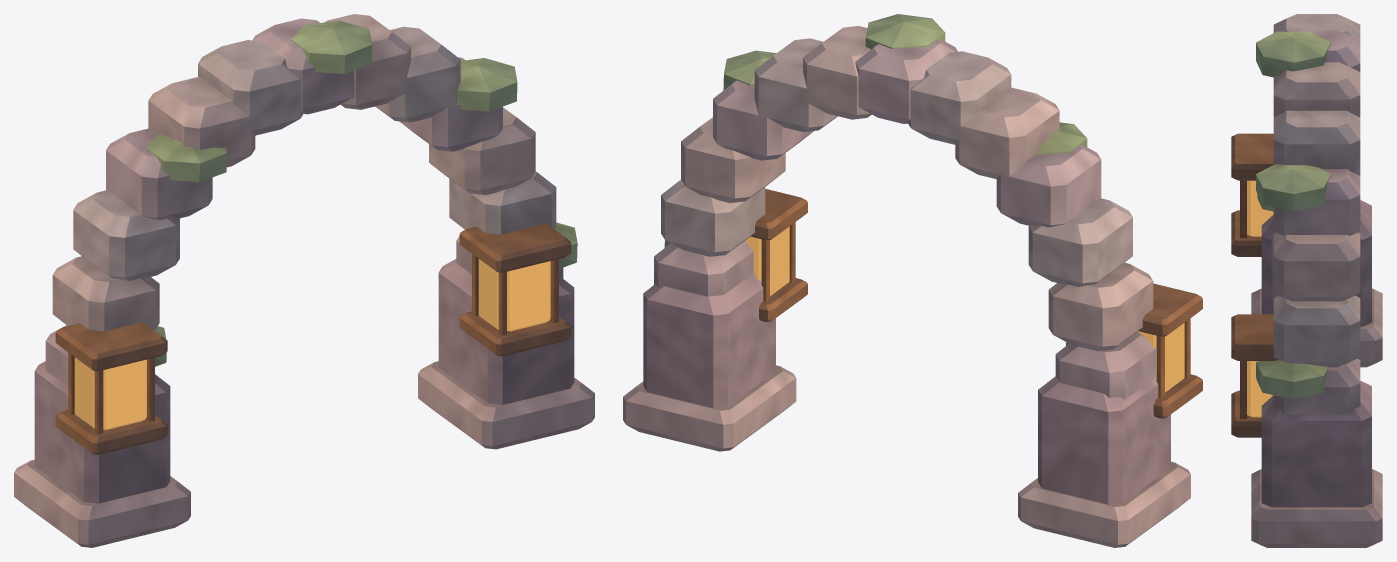
Rendered from dusk_arch.glb.
3 views of the same model, side by side, from view 1: azimuth 30°, elevation 25°; view 2: azimuth 150°, elevation 25°; view 3: azimuth 270°, elevation 25° (orthographic). The views are drawn at different scales.
Visible parts, largest first — view 1: Dämmergänge · alter Rundbogen; view 2: Dämmergänge · alter Rundbogen; view 3: Dämmergänge · alter Rundbogen.
Boxes of the visible parts, x1,y1,x2,y2 form: Dämmergänge · alter Rundbogen: (14, 14, 594, 547); Dämmergänge · alter Rundbogen: (623, 14, 1202, 547); Dämmergänge · alter Rundbogen: (1231, 14, 1382, 547).
Size of the model in its own units: 2.33 by 1.93 by 0.645.
2 materials, 1 textured.
